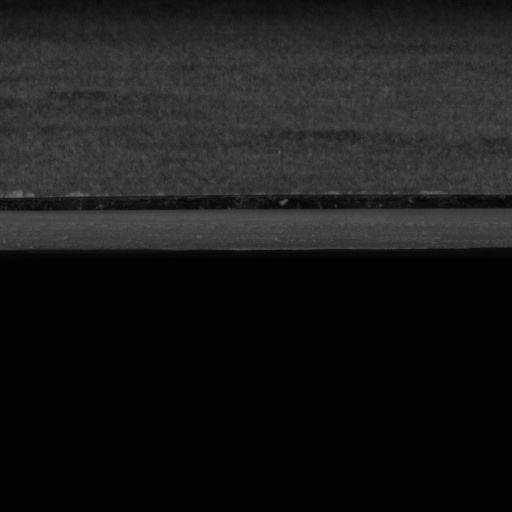kaijiao: (0, 192, 511, 252)
